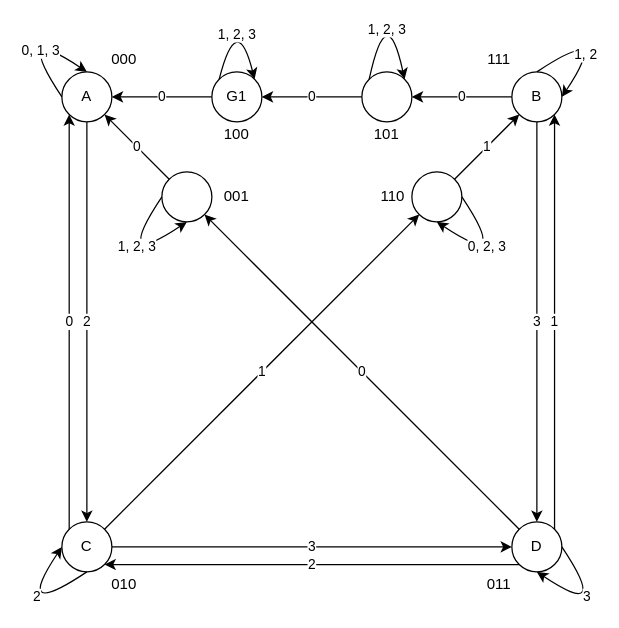
Some shapes in this 619 by 628 pixel diagram are drawn without their labels. Here are the shapes that lost their labels. From the top down, the box of each, then its label:
(361, 71, 412, 122): G3
(161, 171, 212, 222): G2
(411, 171, 462, 222): G4
